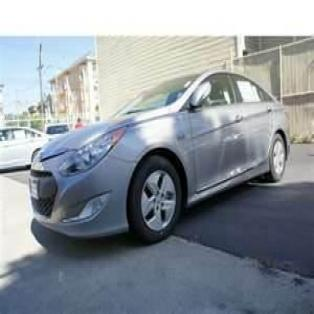Auto: (27, 66, 291, 242)
